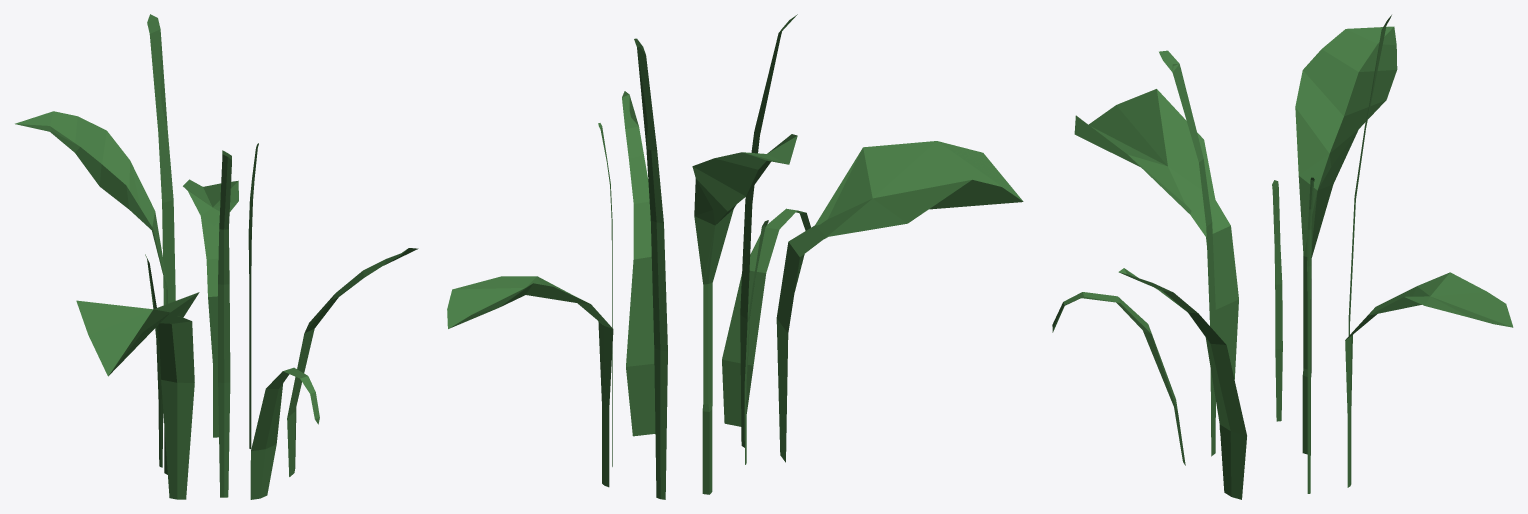
Rendered from low_poly_nature_pack.glb.
3 renders of one model, left to right at view 1: azimuth 30°, elevation 25°; view 2: azimuth 150°, elevation 25°; view 3: azimuth 270°, elevation 25°, orthographic. The views are drawn at different scales.
Parts seen in each view (by area): view 1: Plane; view 2: Plane; view 3: Plane.
Part boxes in pixels (bbox=[...]): Plane: bbox=[15, 14, 418, 499]; Plane: bbox=[447, 14, 1023, 499]; Plane: bbox=[1052, 15, 1513, 499].
Bounding box in the file's own units: 0.9676 × 1.18 × 1.1.
Materials: 1 (1 with a texture image).
